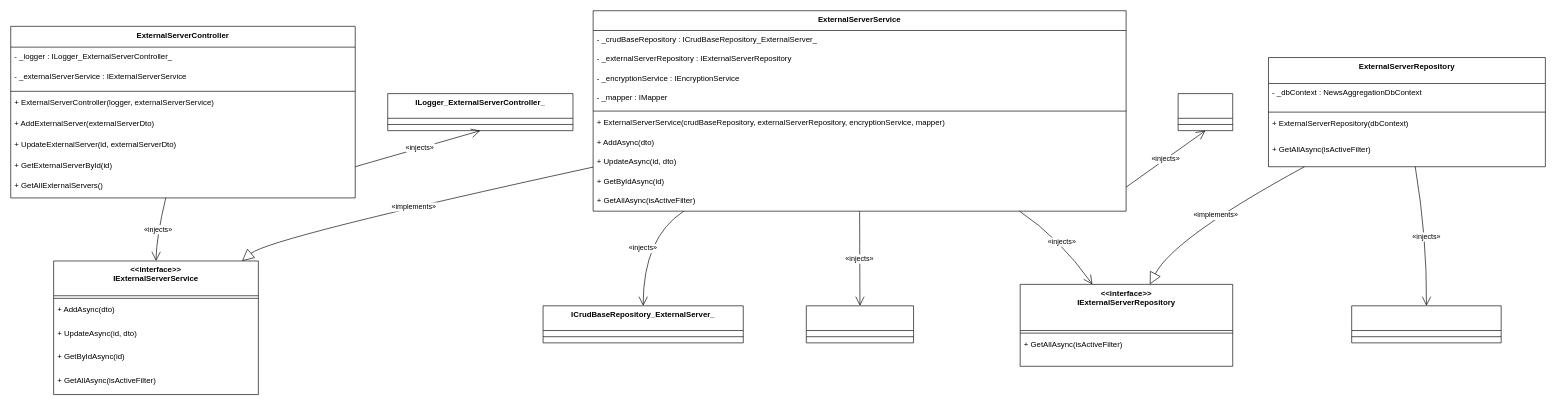
Some shapes in this 1556 by 405 pixel diagram are drawn without their labels. Each missing label, with the box of its shape:
IEncryptionService: (806, 305, 914, 343)
IMapper: (1177, 93, 1233, 131)
NewsAggregationDbContext: (1351, 305, 1501, 343)
